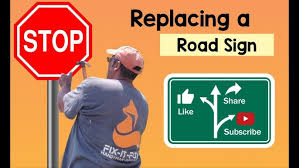stop sign: (14, 2, 92, 81)
